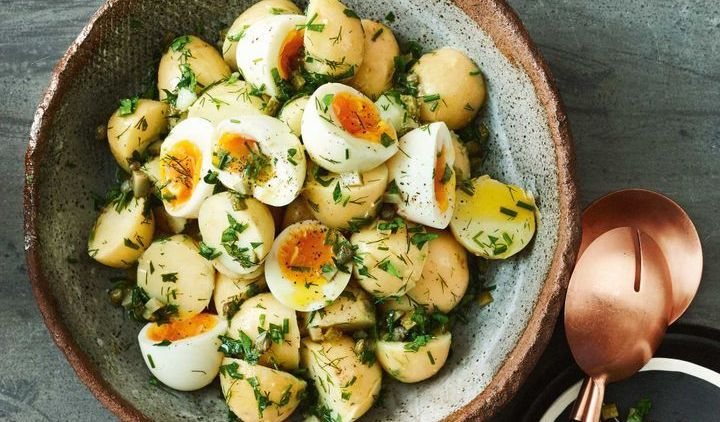Telur: (254, 227, 357, 325), (382, 130, 482, 228), (308, 83, 401, 167), (154, 126, 223, 218), (219, 122, 303, 196), (132, 318, 230, 370)
